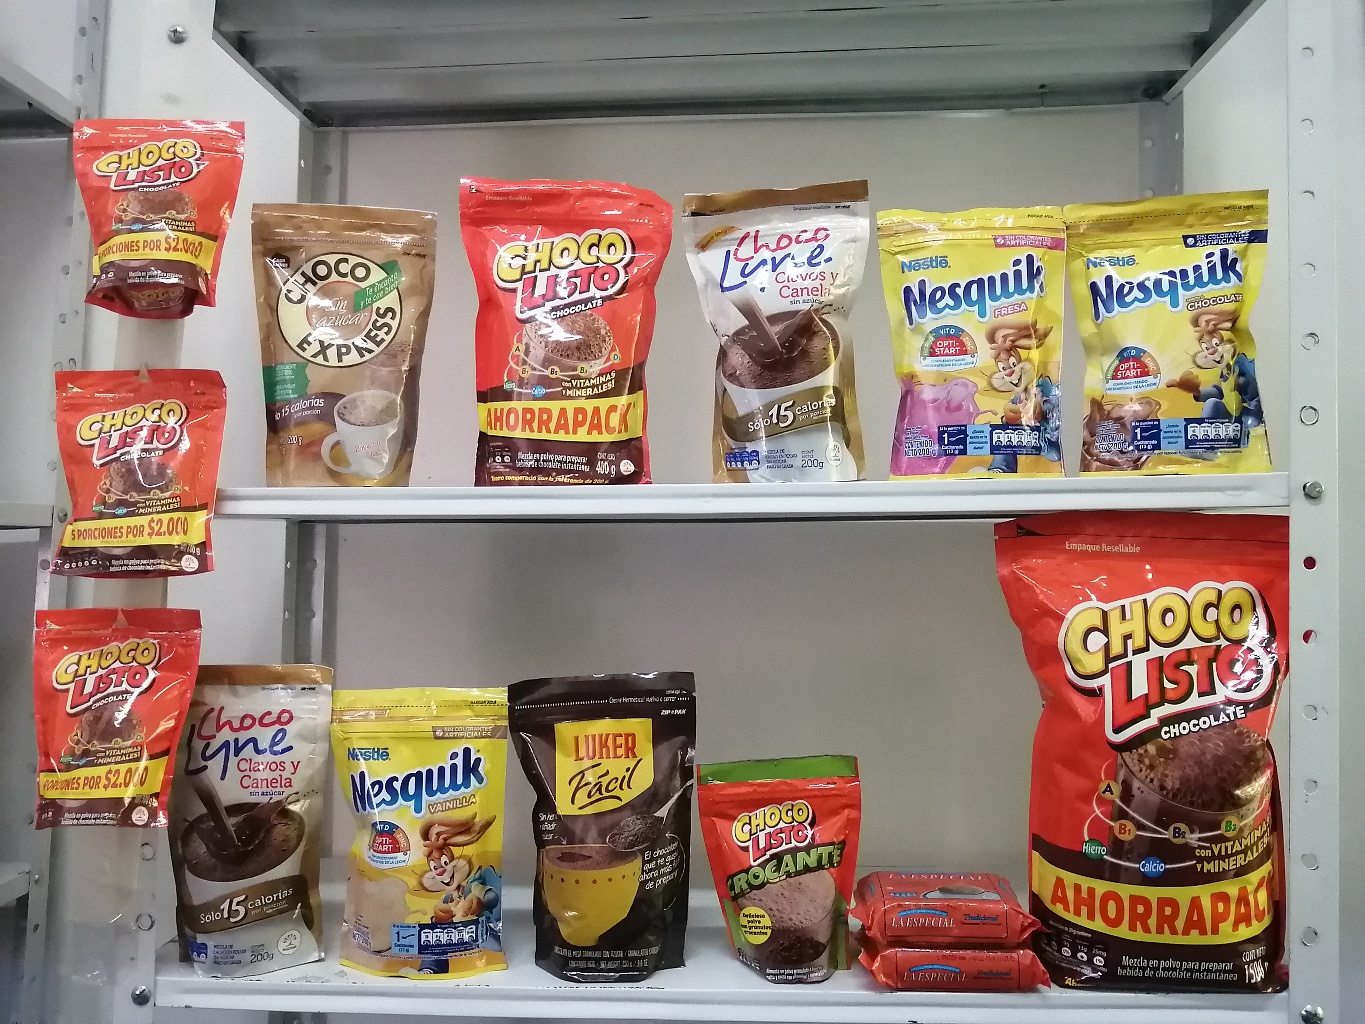COL0170102DYP10000: (698, 759, 867, 989)
COL0170103DYP1,500: (994, 516, 1290, 996)
COL0170103DYP10000: (71, 115, 243, 324)
COL0170103DYP40000: (457, 174, 666, 484)
COL0170303DYP20000: (1065, 198, 1288, 475)
COL0170305DYP20000: (876, 207, 1071, 479)
COL0170306DYP20000: (331, 682, 511, 984)
